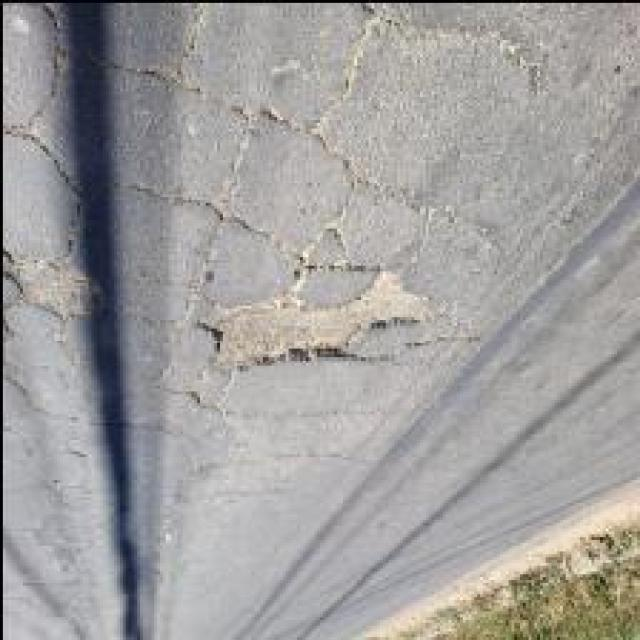BACHE: (205, 272, 435, 364)
PIEL DE COCODRILO: (2, 4, 636, 639)
